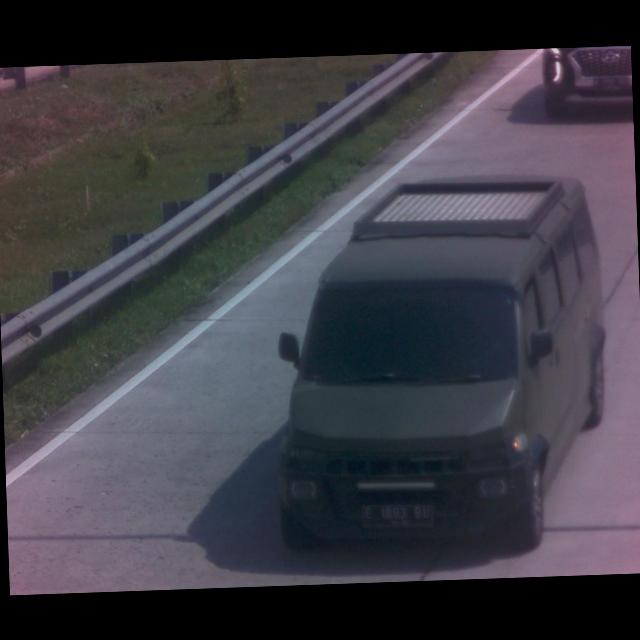plate: (358, 501, 434, 532)
